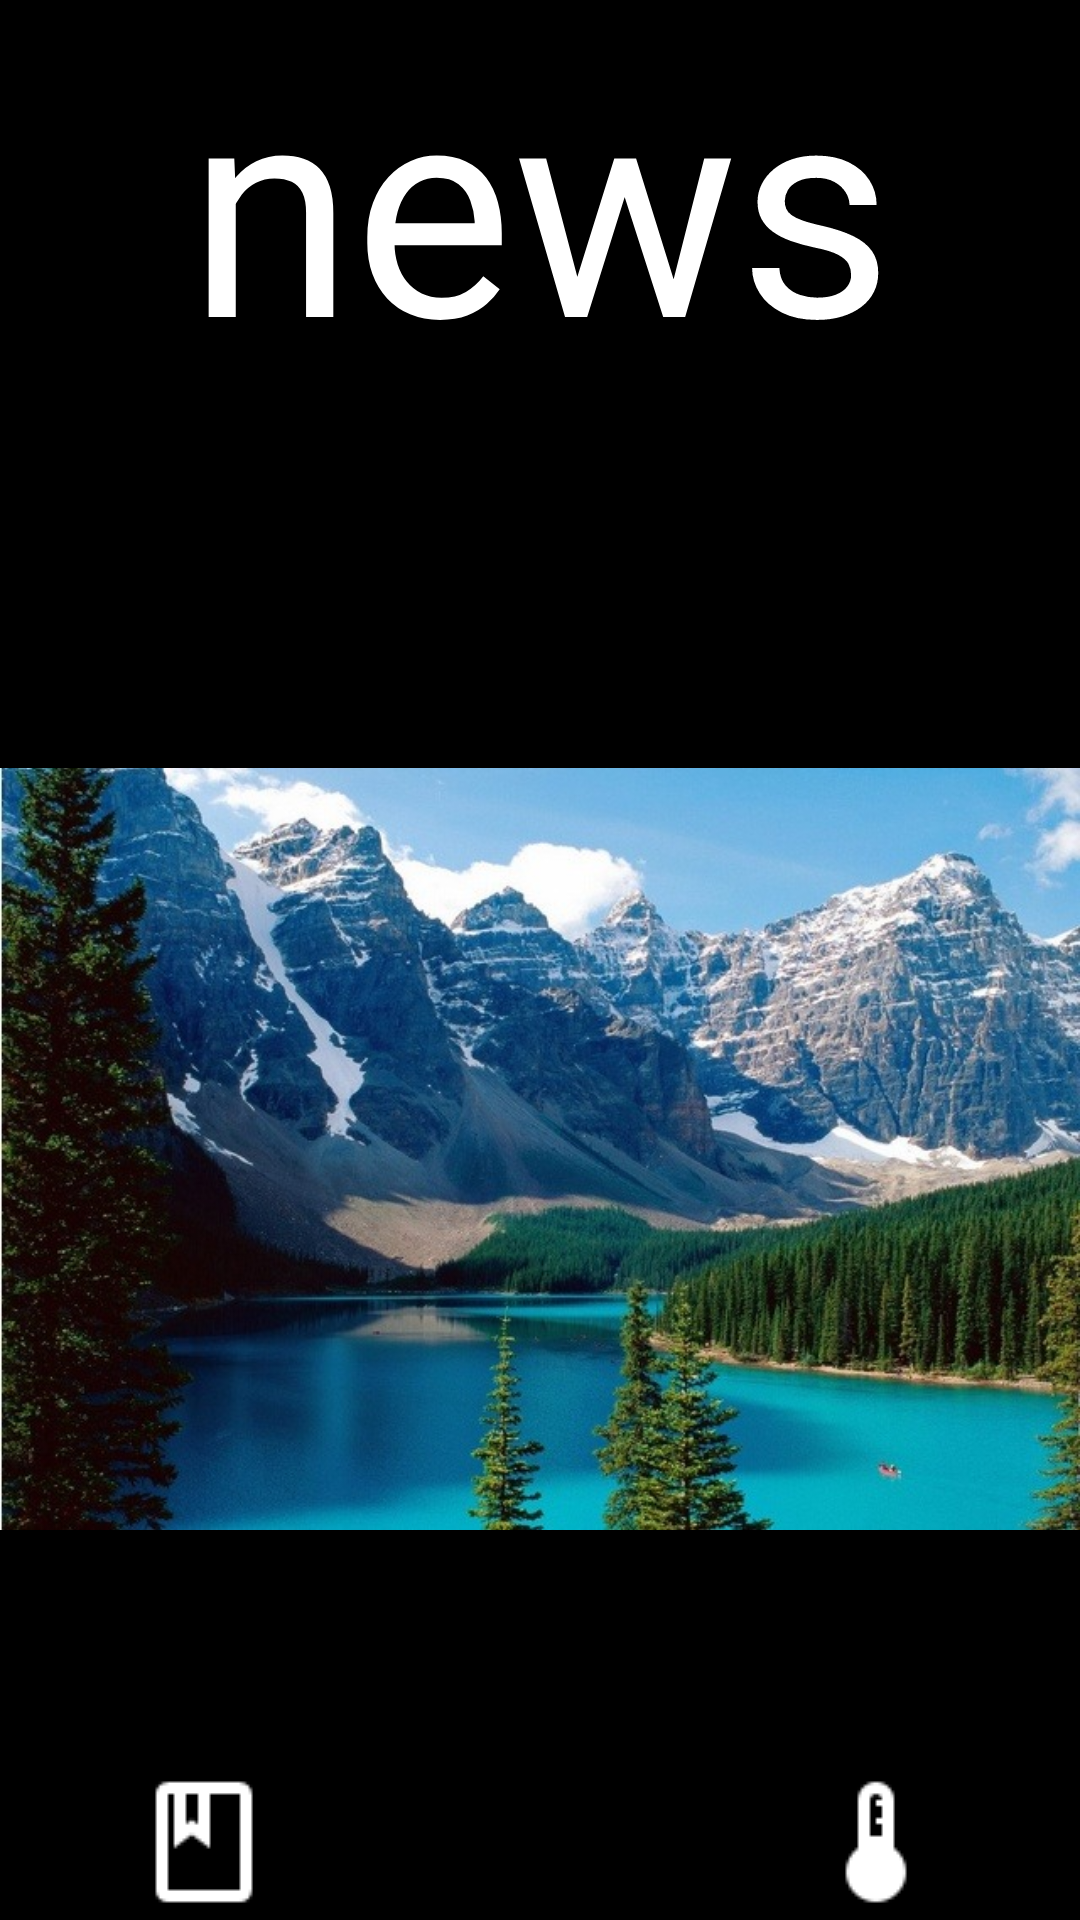

Icon click points for this 1080 × 1920 phone screenshot, format point (x, y):
book: point (204, 1842)
thermostat: point (876, 1842)
